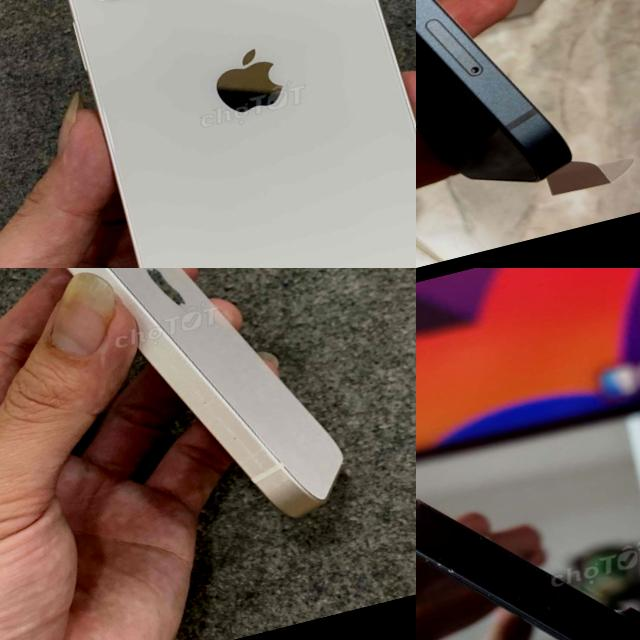scratch: (466, 513, 540, 578), (416, 498, 454, 588)
